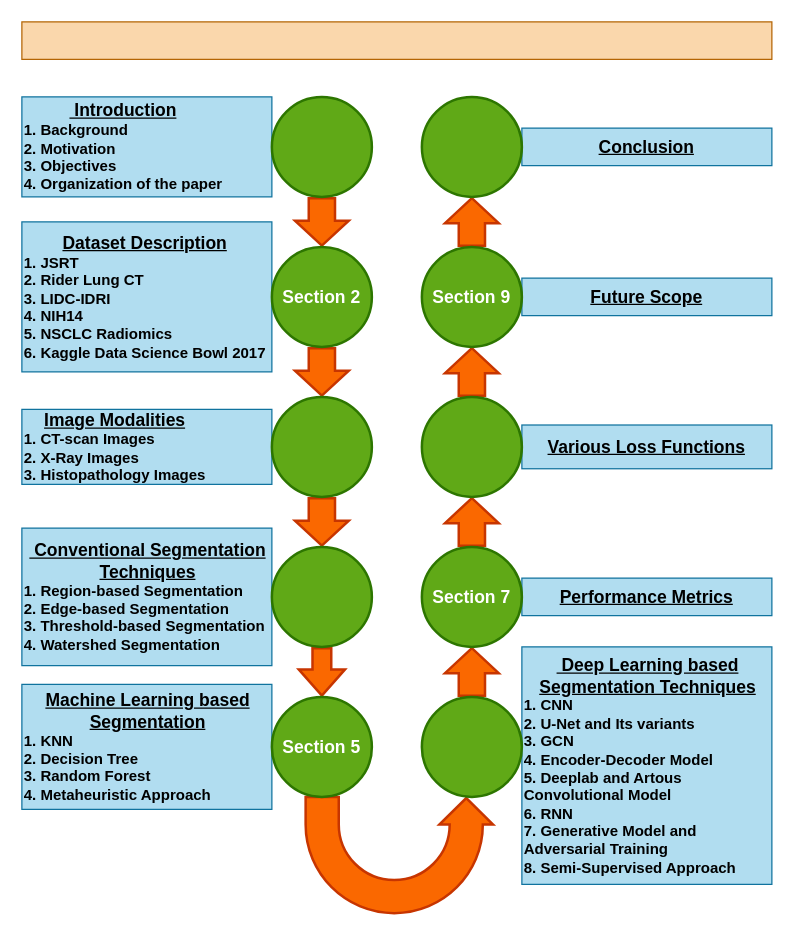
The diagram is 794 pixels wide and 936 high, and some of its shapes have lost their labels. The centre of each missing label's shape, as x and y in pixels:
Roadmap of this Survey Paper: point (396, 40)
Section 1: point (321, 146)
Section 10: point (471, 146)
Section 3: point (321, 446)
Section 4: point (321, 596)
Section 6: point (471, 746)
Section 8: point (471, 446)
